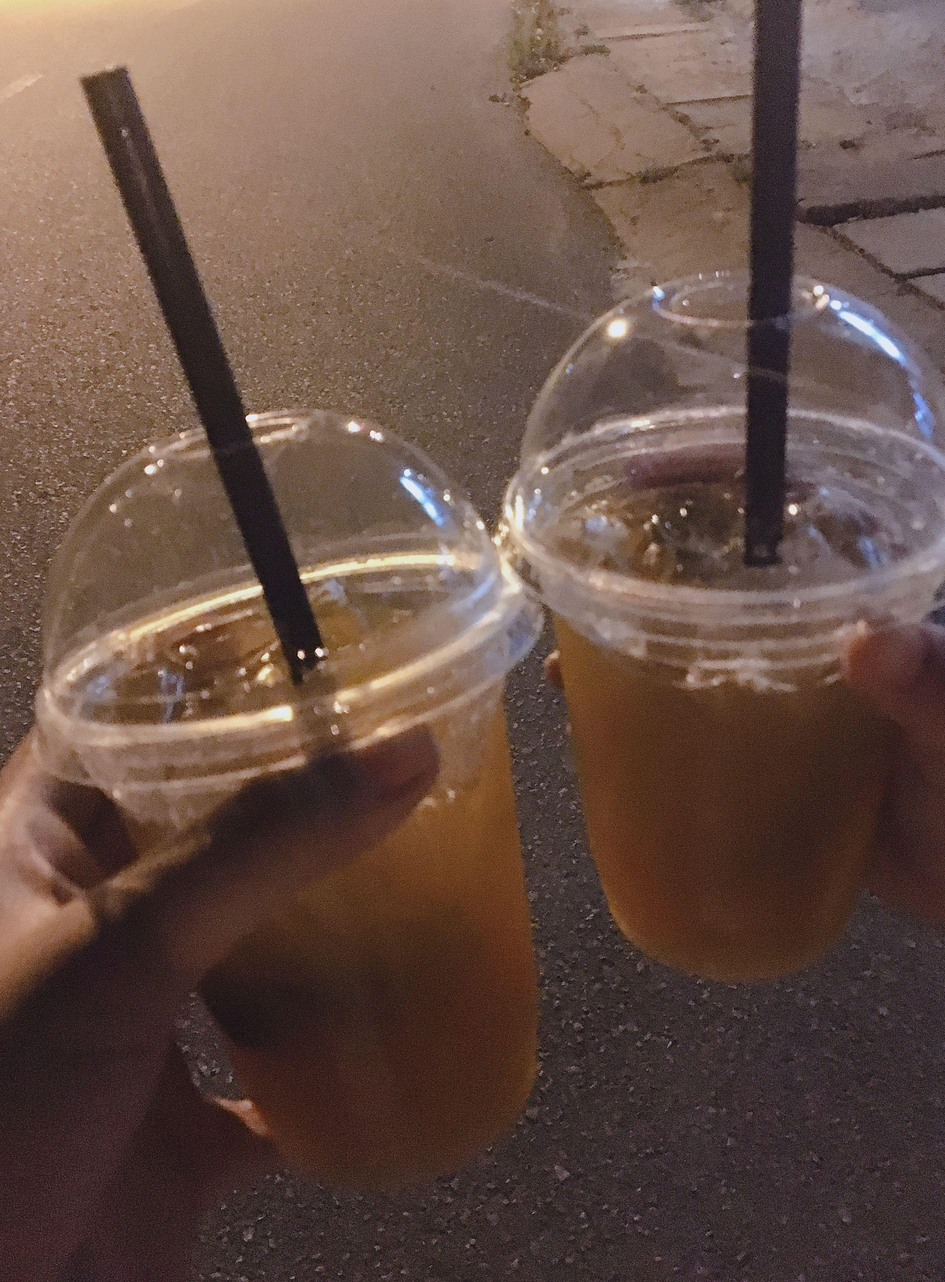cup-disposable: (35, 409, 555, 1189), (502, 263, 945, 987)
